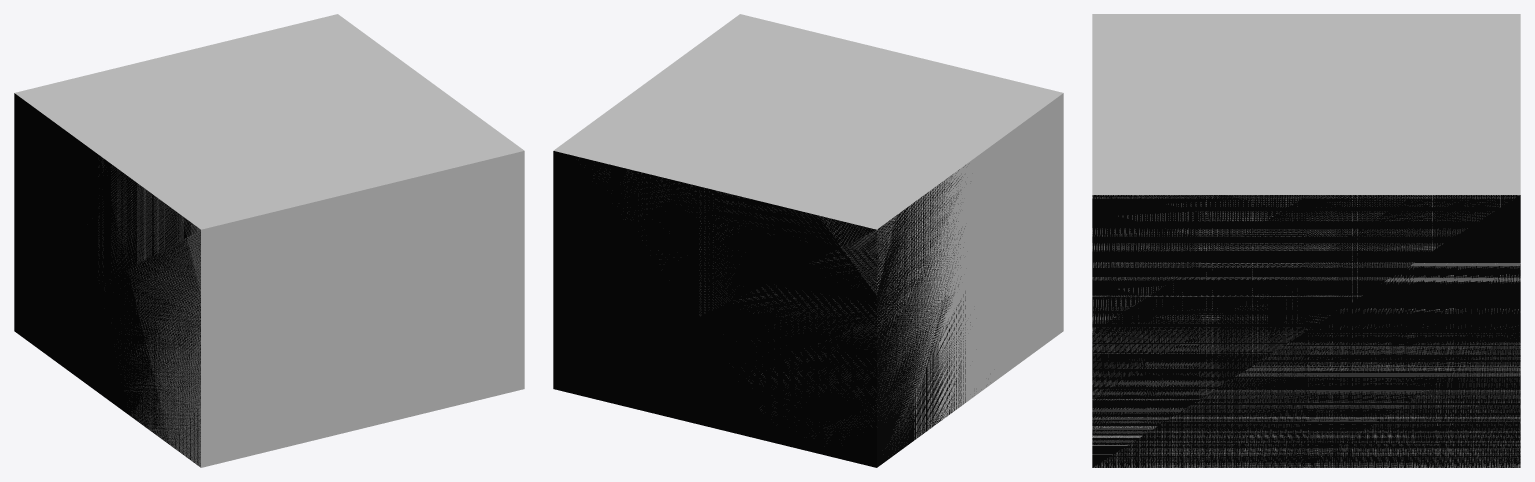
The model's file is plate_stack_01.DAE.
3 views of the same model, side by side, from view 1: azimuth 30°, elevation 25°; view 2: azimuth 150°, elevation 25°; view 3: azimuth 270°, elevation 25° (orthographic). The views are drawn at different scales.
Visible parts, largest first — view 1: bounds, colbox-1; view 2: bounds, colbox-1; view 3: colbox-1, bounds.
Boxes of the visible parts, x1,y1,x2,y2 form: bounds: (15,14,524,467); colbox-1: (14,93,200,465); bounds: (553,14,1063,441); colbox-1: (553,151,970,467); colbox-1: (1092,195,1520,467); bounds: (1092,14,1520,467).
Size of the model in its own units: 37.09 by 37.1 by 26.1.
